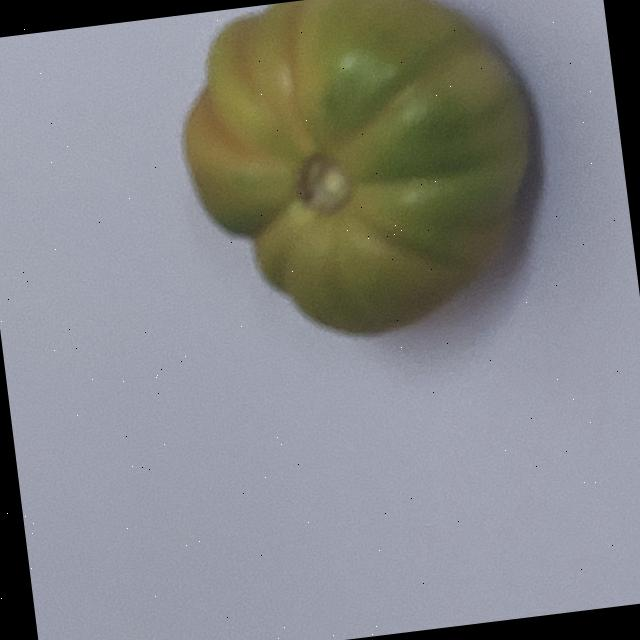tomato: (106, 0, 626, 458)
